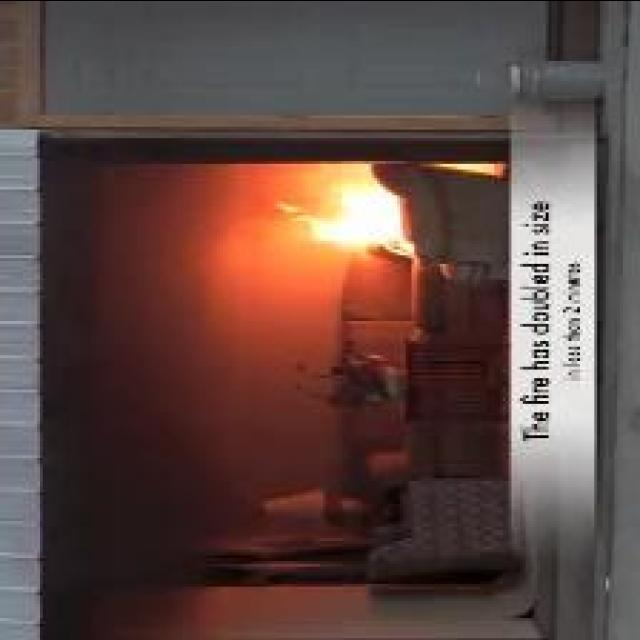Fire: (276, 182, 413, 250)
